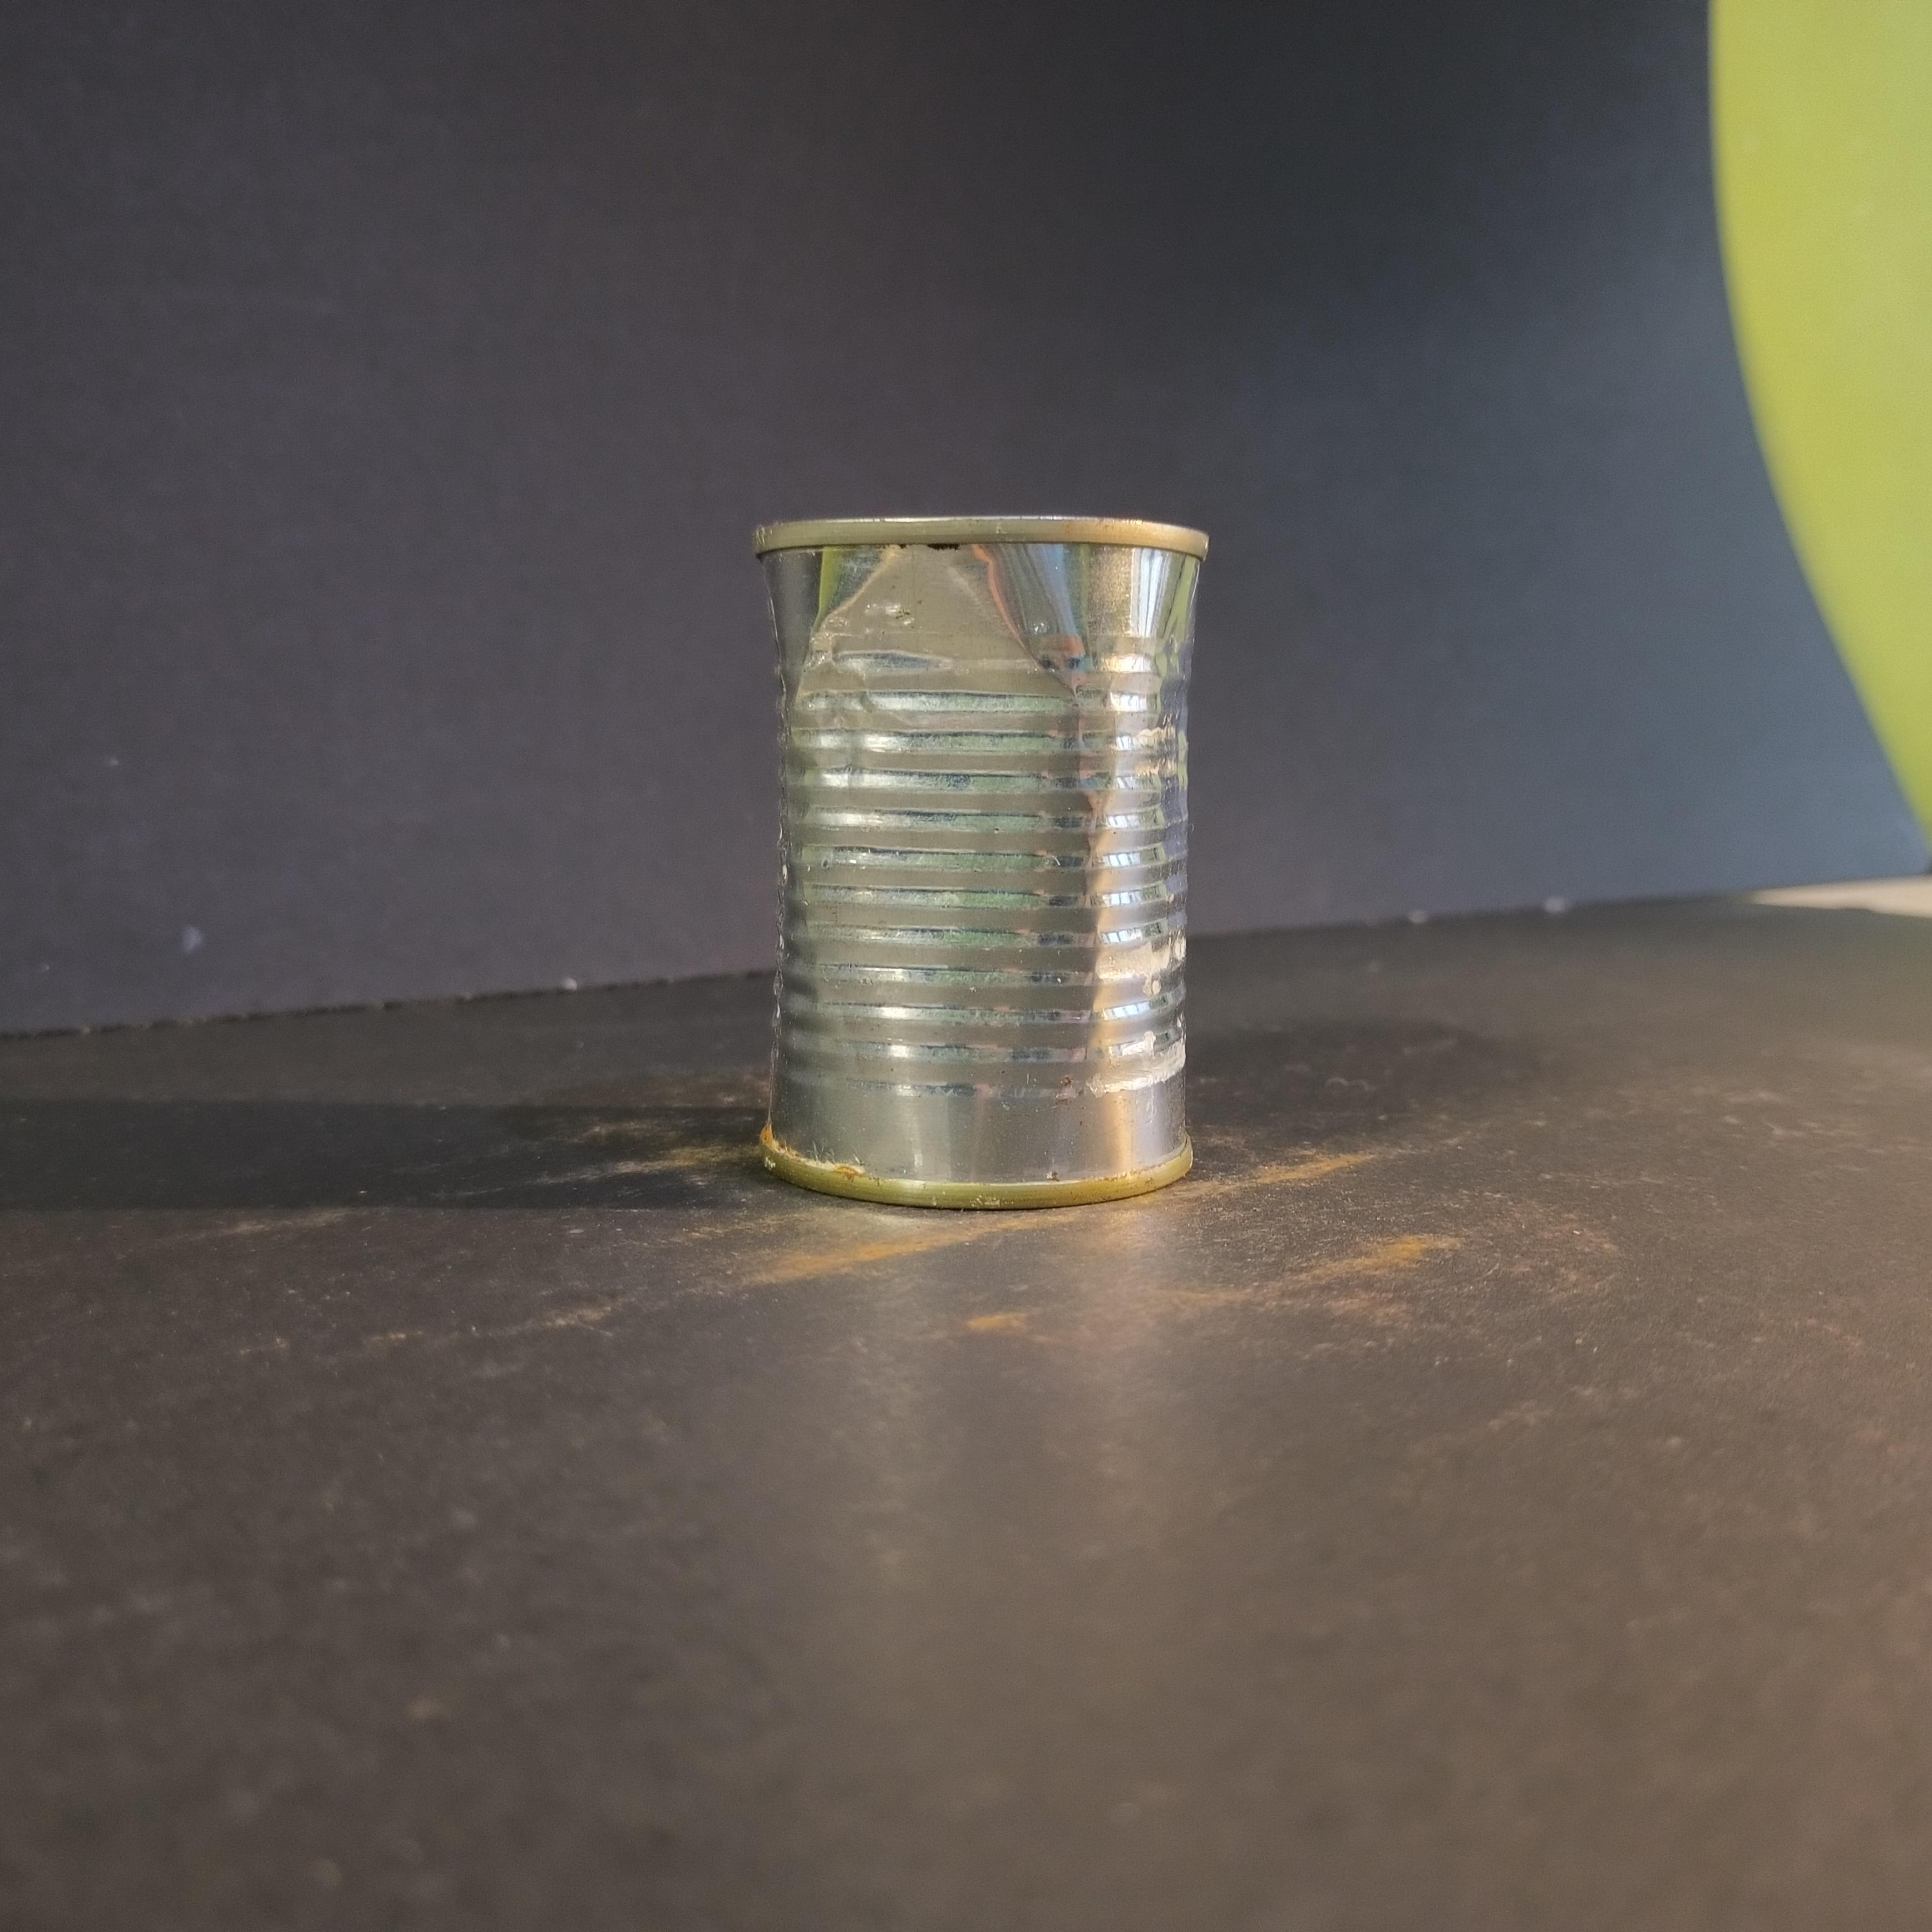Minor Defect: (754, 517, 1210, 1212)
